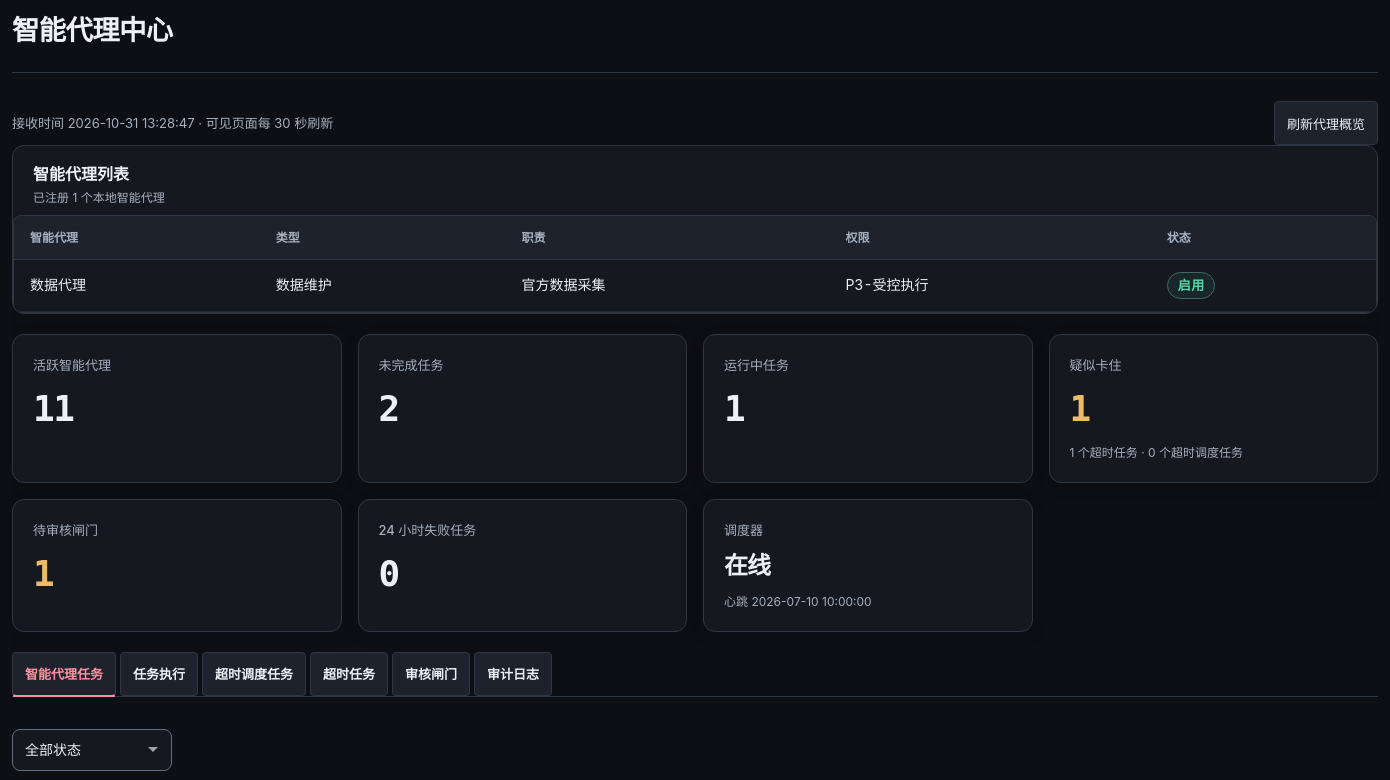
Scenario: AgentPanel request lifecycle › retains the last successful summary when a refresh fails, then supports retry
Expected: the text "活跃智能代理" is shown, [33,357,111,373]
Click the button "刷新代理概览".
click(1326, 123)  # box [1274,101,1378,145]
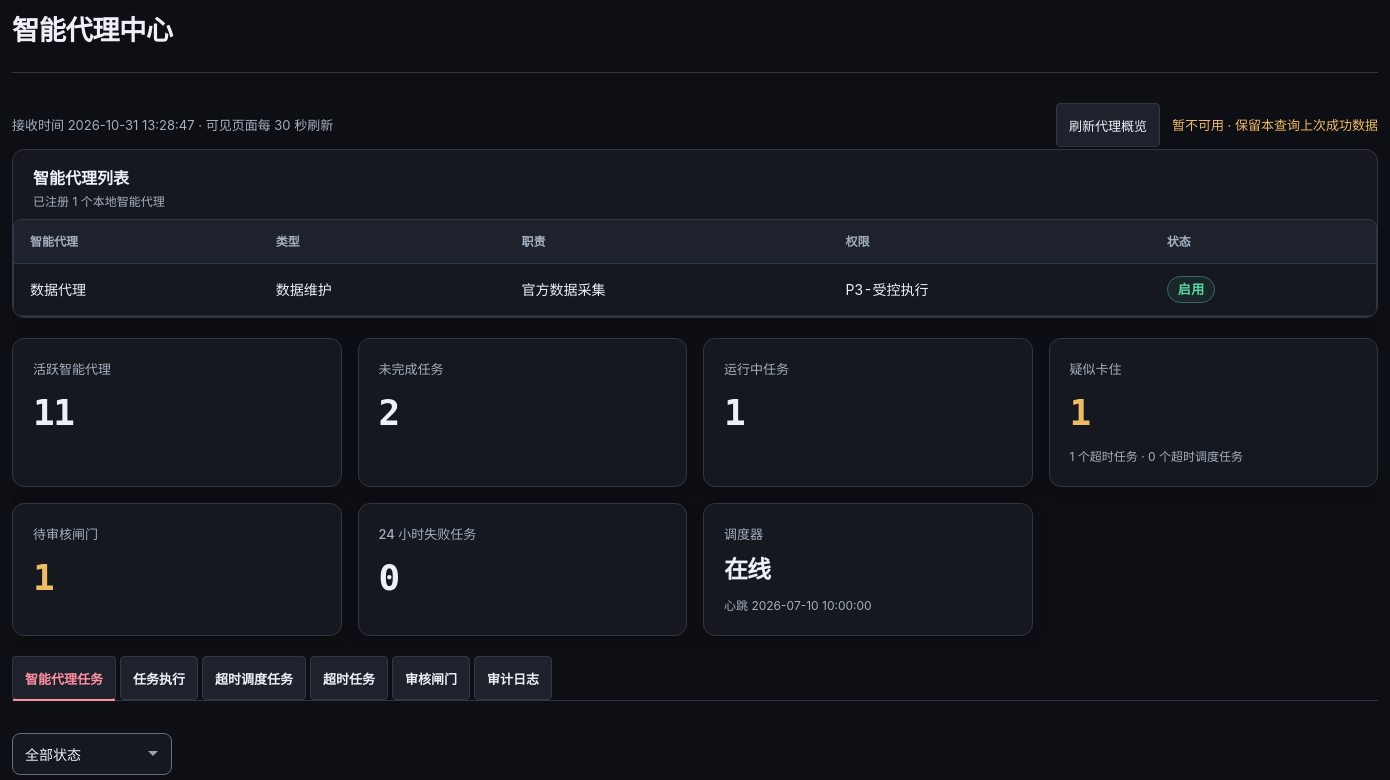
Expected: the text "在线" is shown, [724,556,770,584]
Now the message shows "保留本查询上次成功数据", box [1235,117,1378,133]
Click the button "刷新代理概览".
click(1108, 125)  # box [1056,103,1160,147]
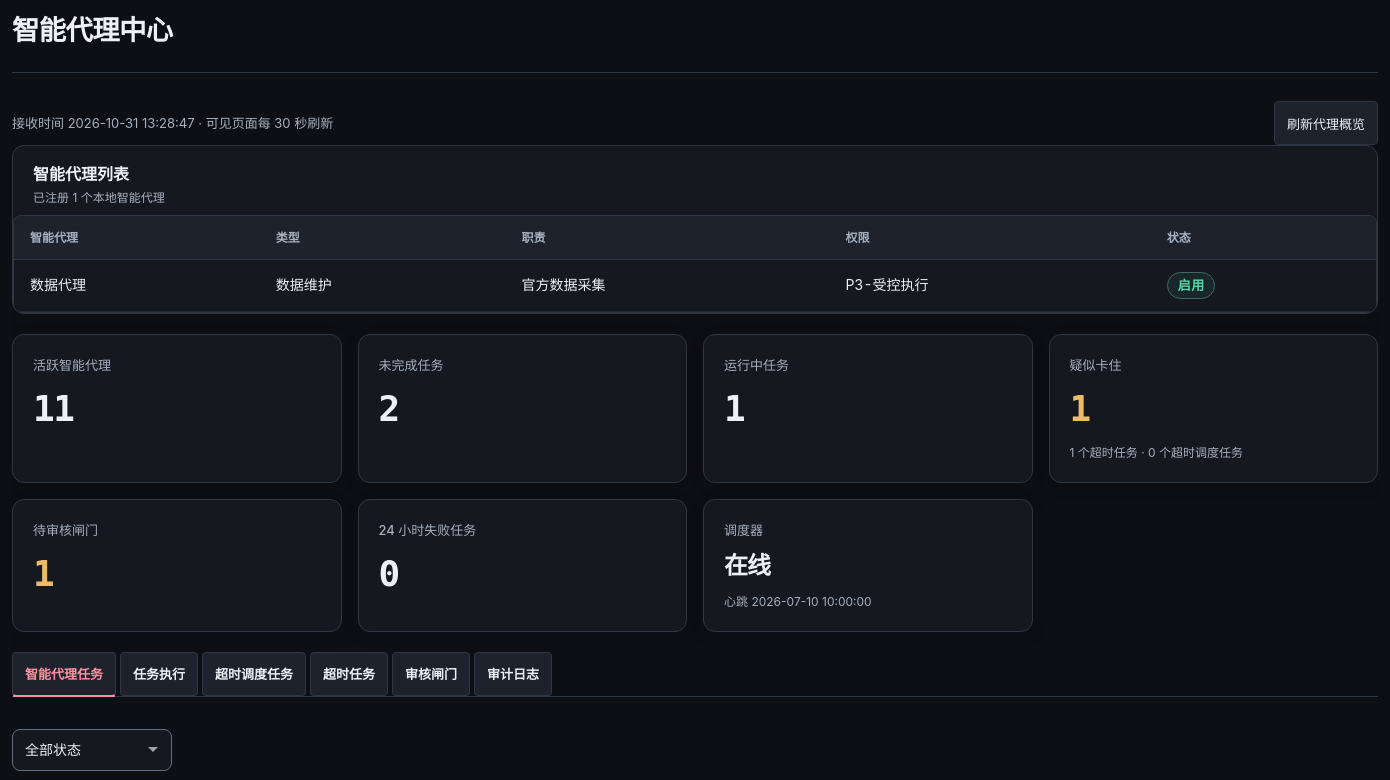
Now the message "暂不可用 · 保留本查询上次成功数据" is gone
